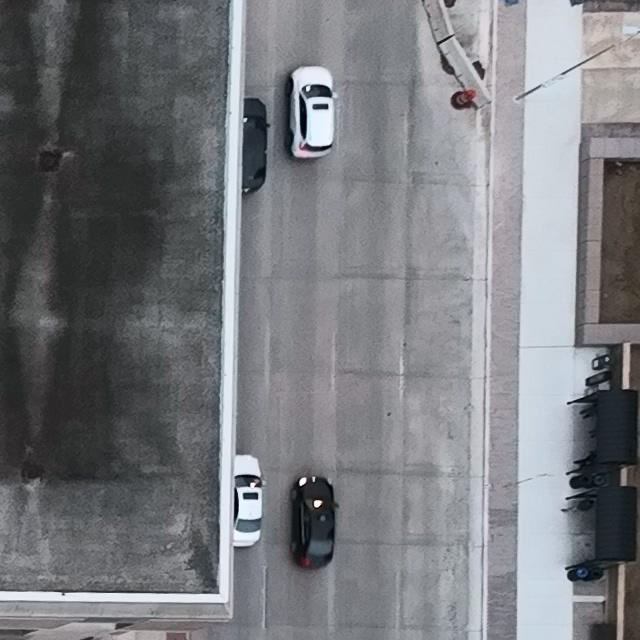car: (287, 65, 338, 160), (289, 476, 339, 569), (231, 455, 266, 548), (242, 98, 270, 195)
